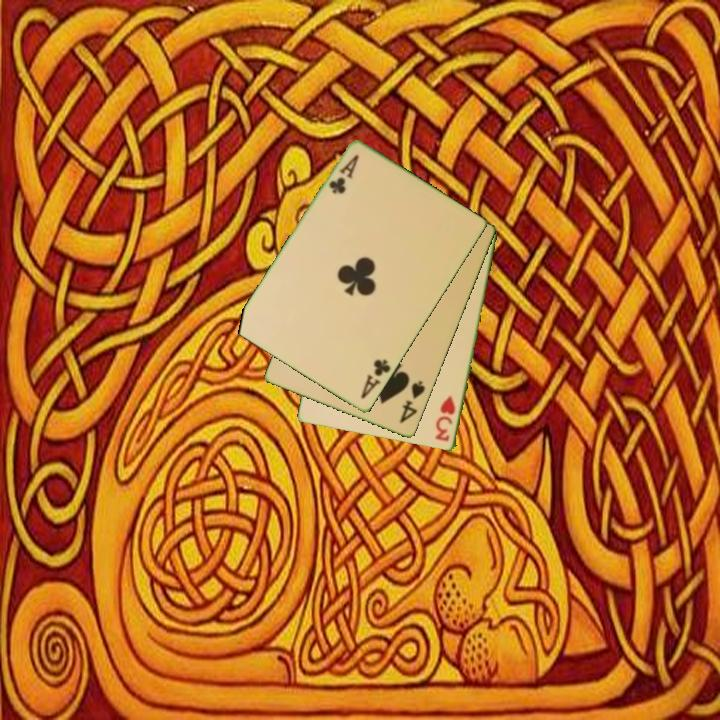3h: (432, 392, 458, 444)
4s: (396, 377, 428, 427)
Ac: (357, 356, 394, 402), (325, 151, 362, 197)
